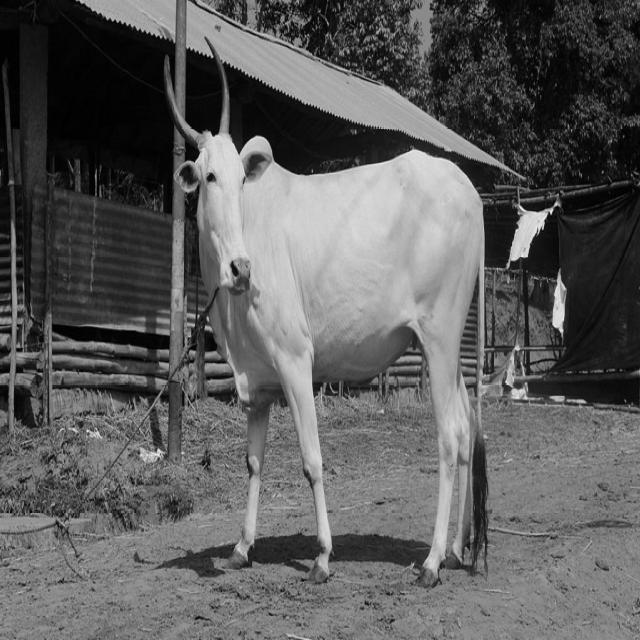Cow: (161, 34, 491, 587)
